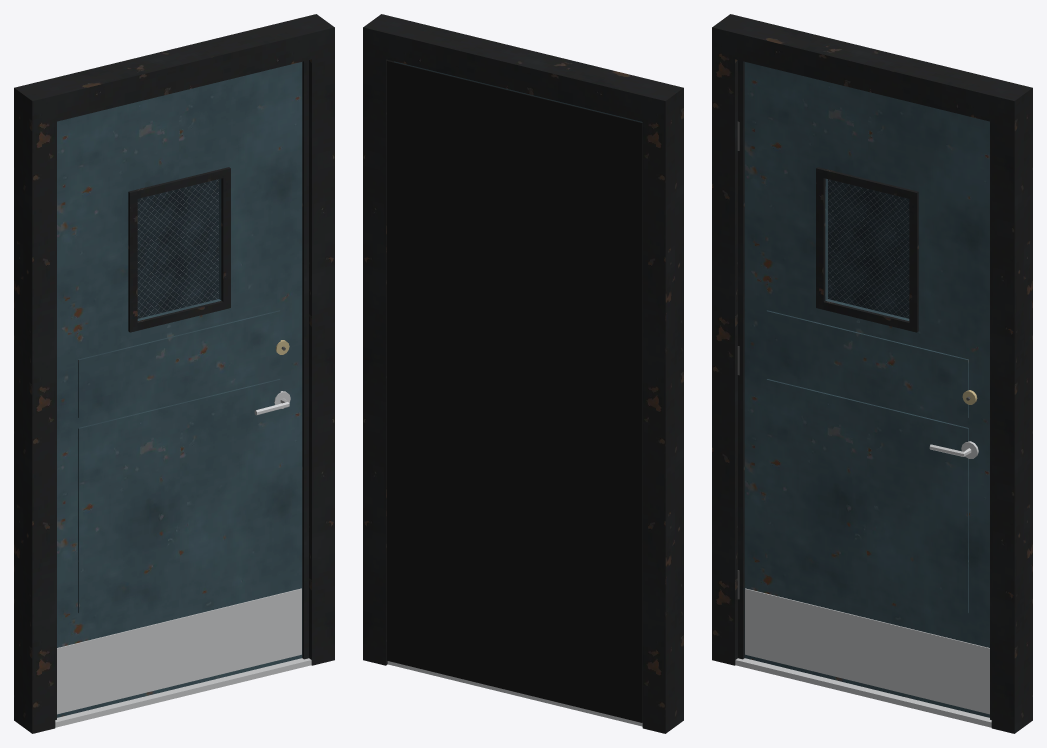
Rendered from door.glb.
3 views of the same model, side by side, from view 1: azimuth 30°, elevation 25°; view 2: azimuth 150°, elevation 25°; view 3: azimuth 330°, elevation 25° (orthographic).
Visible parts, largest first — view 1: door; view 2: door; view 3: door.
Part boxes in pixels (box(x1,y1,x2,y2)): door: box(14, 14, 334, 733); door: box(363, 14, 683, 733); door: box(712, 14, 1032, 733).
Size of the model in its own units: 1.2 by 2.4 by 0.15.
7 materials, 3 textured.
